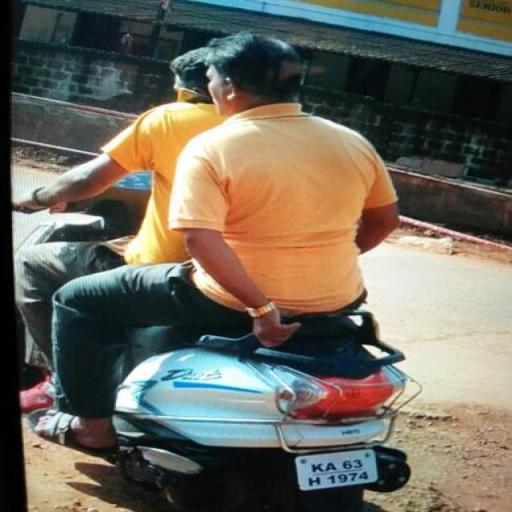numberplate: (288, 443, 382, 493)
using mobile: (174, 88, 212, 106)
